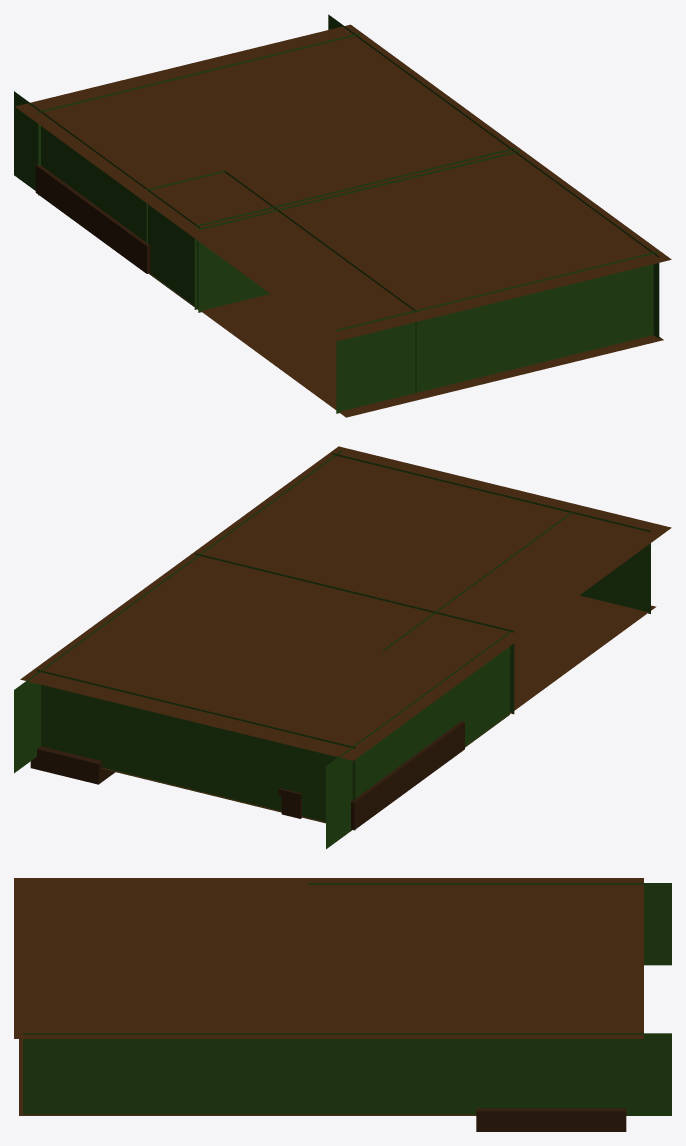
Rendered from bar.glb.
3 renders of one model, top to bottom at view 1: azimuth 30°, elevation 25°; view 2: azimuth 150°, elevation 25°; view 3: azimuth 270°, elevation 25°, orthographic.
Parts seen in each view (by area): view 1: Ceiling, credits wall east, Plane.002, Floor, Bar Shelf, credits wall west, Plane.004, Plane, Plane.003, Plane.001; view 2: Ceiling, Plane.003, Plane.002, Floor, Bar Shelf, credits wall east, Plane.004, Stage, credits wall west; view 3: Ceiling, Plane.004, Stage, Plane.002, Floor.
Boxes of the visible parts, box(x1,y1,x2,y2) form: Ceiling: box(15, 24, 671, 341); credits wall east: box(336, 251, 657, 413); Plane.002: box(14, 91, 199, 309); Floor: box(149, 273, 663, 417); Bar Shelf: box(35, 164, 150, 273); credits wall west: box(198, 150, 519, 312); Plane.004: box(328, 14, 659, 338); Plane: box(194, 147, 516, 309); Plane.003: box(38, 33, 359, 195); Plane.001: box(146, 170, 416, 392); Ceiling: box(20, 446, 671, 760); Plane.003: box(36, 669, 355, 830); Plane.002: box(326, 631, 509, 849); Floor: box(102, 595, 656, 822); Bar Shelf: box(351, 721, 464, 830); credits wall east: box(332, 453, 650, 613); Plane.004: box(14, 450, 341, 773); Stage: box(30, 746, 115, 784); credits wall west: box(195, 553, 514, 714); Ceiling: box(14, 878, 643, 1038); Plane.004: box(23, 1033, 671, 1115); Stage: box(476, 1108, 626, 1131); Plane.002: box(307, 883, 671, 965); Floor: box(19, 1039, 476, 1115).
Size of the model in its own units: 20.41 by 5.65 by 35.28.
